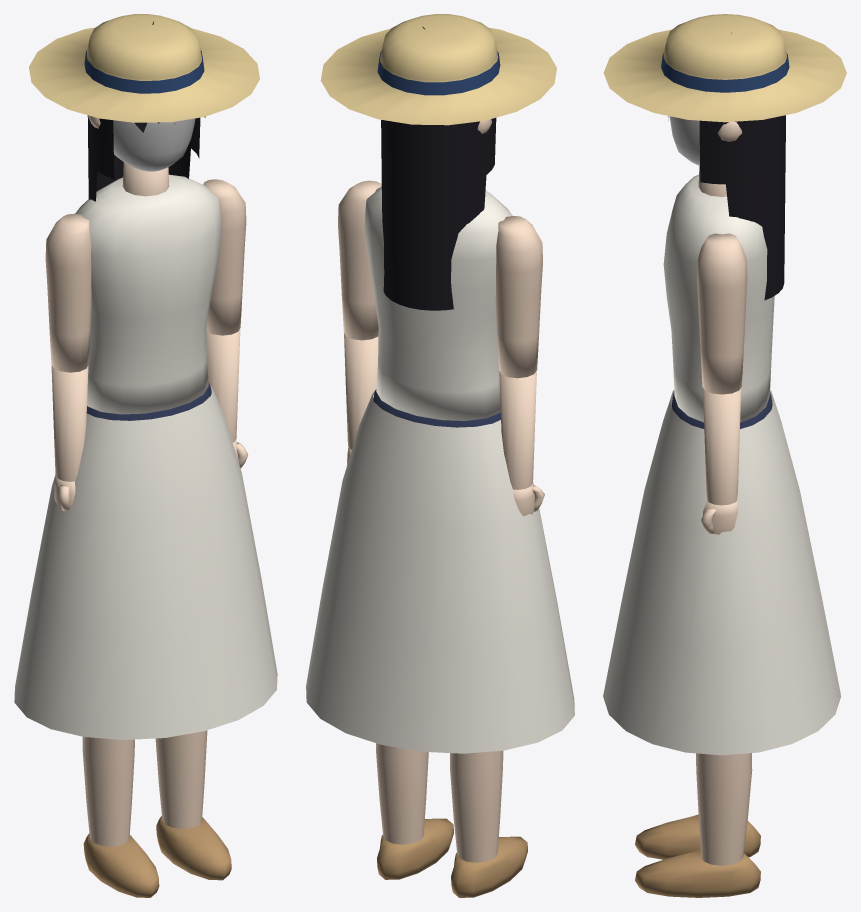
File: oneesan.glb
The picture shows the model from 3 angles, left to right: view 1: azimuth 30°, elevation 25°; view 2: azimuth 150°, elevation 25°; view 3: azimuth 270°, elevation 25°; orthographic projection. The views are drawn at different scales.
Parts seen in each view (by area): view 1: hips, torso, head, shinR, shinL, armR, armL, foreR, foreL; view 2: hips, head, torso, shinR, shinL, armR, armL, foreR, foreL; view 3: hips, head, torso, shinL, armL, foreL, shinR.
Part boxes in pixels (bbox=[...]): hips: bbox=[14, 383, 277, 739]; torso: bbox=[75, 162, 221, 414]; head: bbox=[29, 14, 259, 201]; shinR: bbox=[82, 737, 159, 897]; shinL: bbox=[155, 730, 231, 880]; armR: bbox=[45, 213, 91, 372]; armL: bbox=[203, 179, 246, 335]; foreR: bbox=[51, 365, 88, 511]; foreL: bbox=[206, 329, 248, 468]; hips: bbox=[306, 389, 574, 753]; head: bbox=[320, 14, 556, 310]; torso: bbox=[364, 187, 512, 420]; shinR: bbox=[450, 750, 527, 897]; shinL: bbox=[376, 743, 453, 879]; armR: bbox=[495, 216, 542, 378]; armL: bbox=[338, 180, 381, 340]; foreR: bbox=[499, 370, 544, 516]; foreL: bbox=[344, 333, 378, 465]; hips: bbox=[603, 390, 841, 755]; head: bbox=[603, 14, 846, 300]; torso: bbox=[663, 166, 774, 422]; shinL: bbox=[635, 753, 760, 897]; armL: bbox=[697, 233, 747, 394]; foreL: bbox=[701, 388, 741, 534]; shinR: bbox=[635, 814, 760, 859].
Bounding box in the file's own units: 0.5346 × 1.78 × 0.4663.
